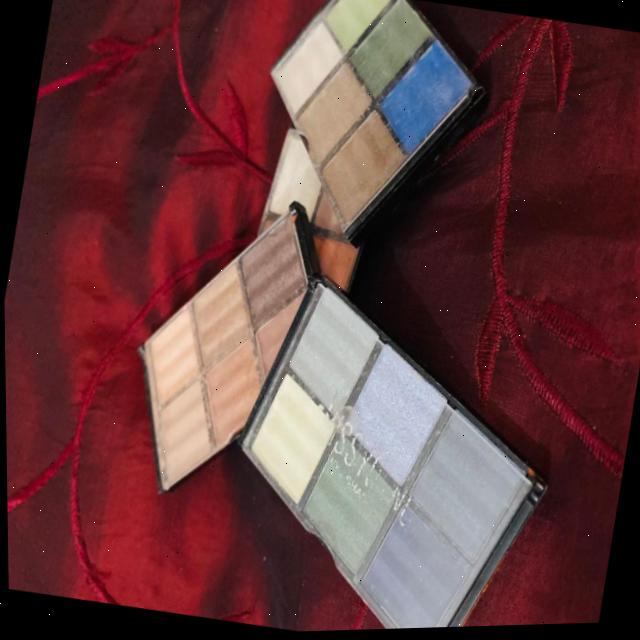eye shade: (81, 0, 623, 638)
